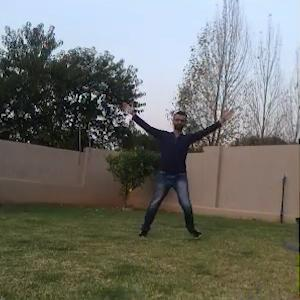takeoff: (120, 99, 232, 242)
